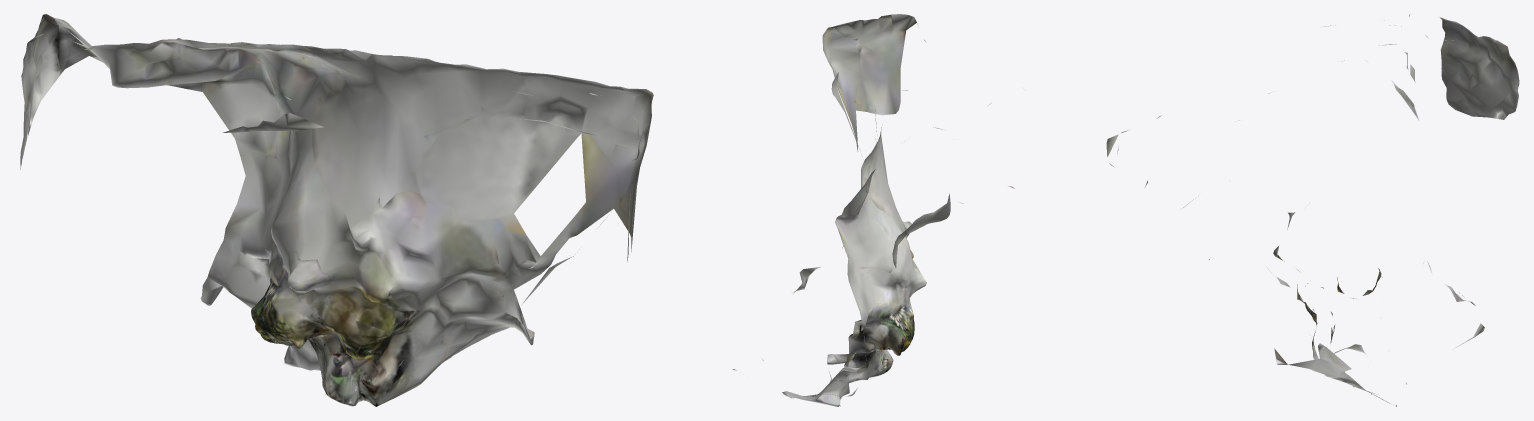
The model's file is hall.glb.
3 views of the same model, side by side, from view 1: azimuth 30°, elevation 25°; view 2: azimuth 150°, elevation 25°; view 3: azimuth 270°, elevation 25° (orthographic). The views are drawn at different scales.
Bounding box in the file's own units: 1.82 × 1.39 × 1.81.
Materials: 1 (1 with a texture image).
